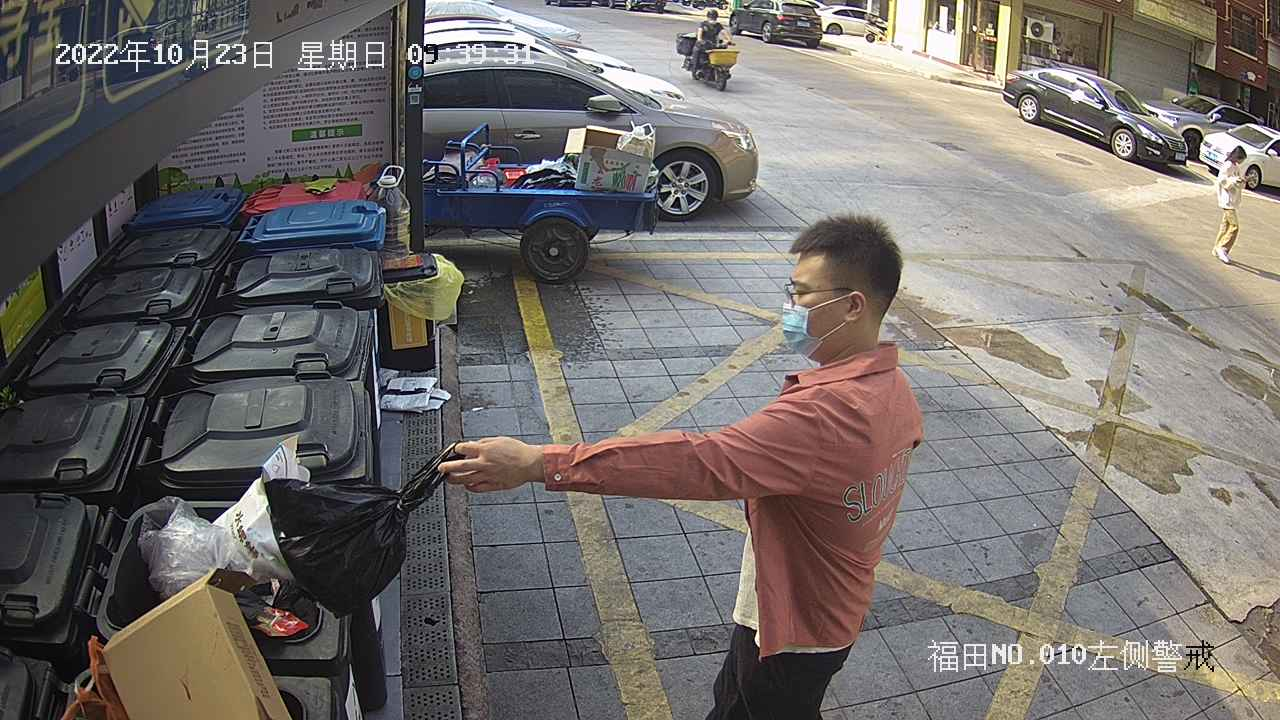garbage-bag: (259, 433, 473, 622)
person: (431, 205, 930, 720)
zhizhipin: (380, 369, 454, 419)
